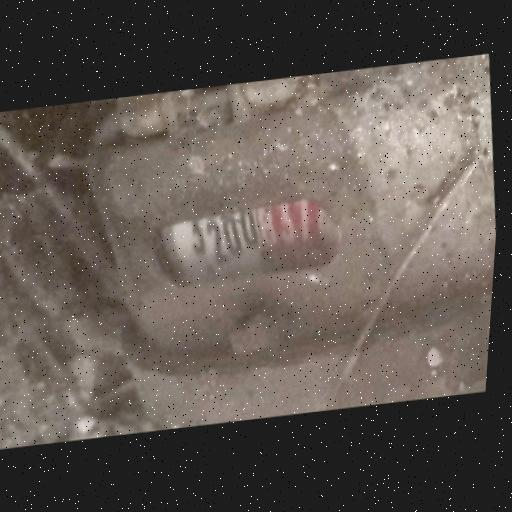0: (214, 210, 254, 282), (232, 206, 271, 279)
2: (196, 213, 236, 285)
3: (267, 198, 306, 271), (178, 217, 217, 288)
7: (284, 194, 324, 267)
8: (250, 203, 290, 275)
border_water_meter_number: (144, 193, 347, 293)
